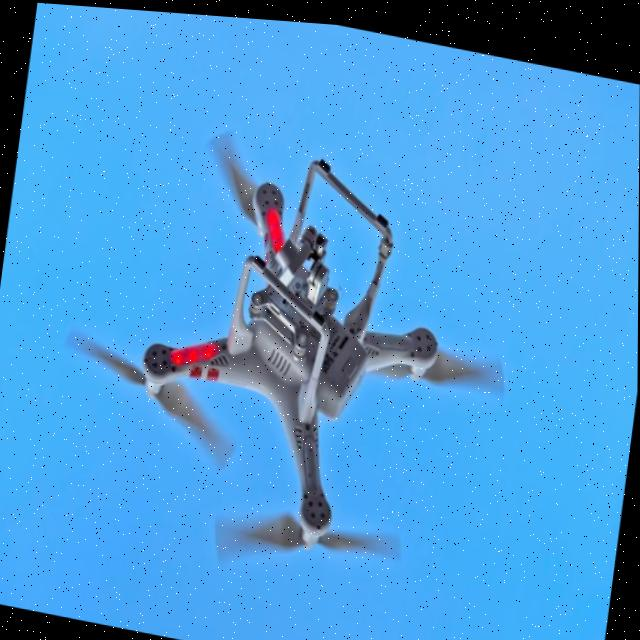drones: (48, 139, 541, 600)
